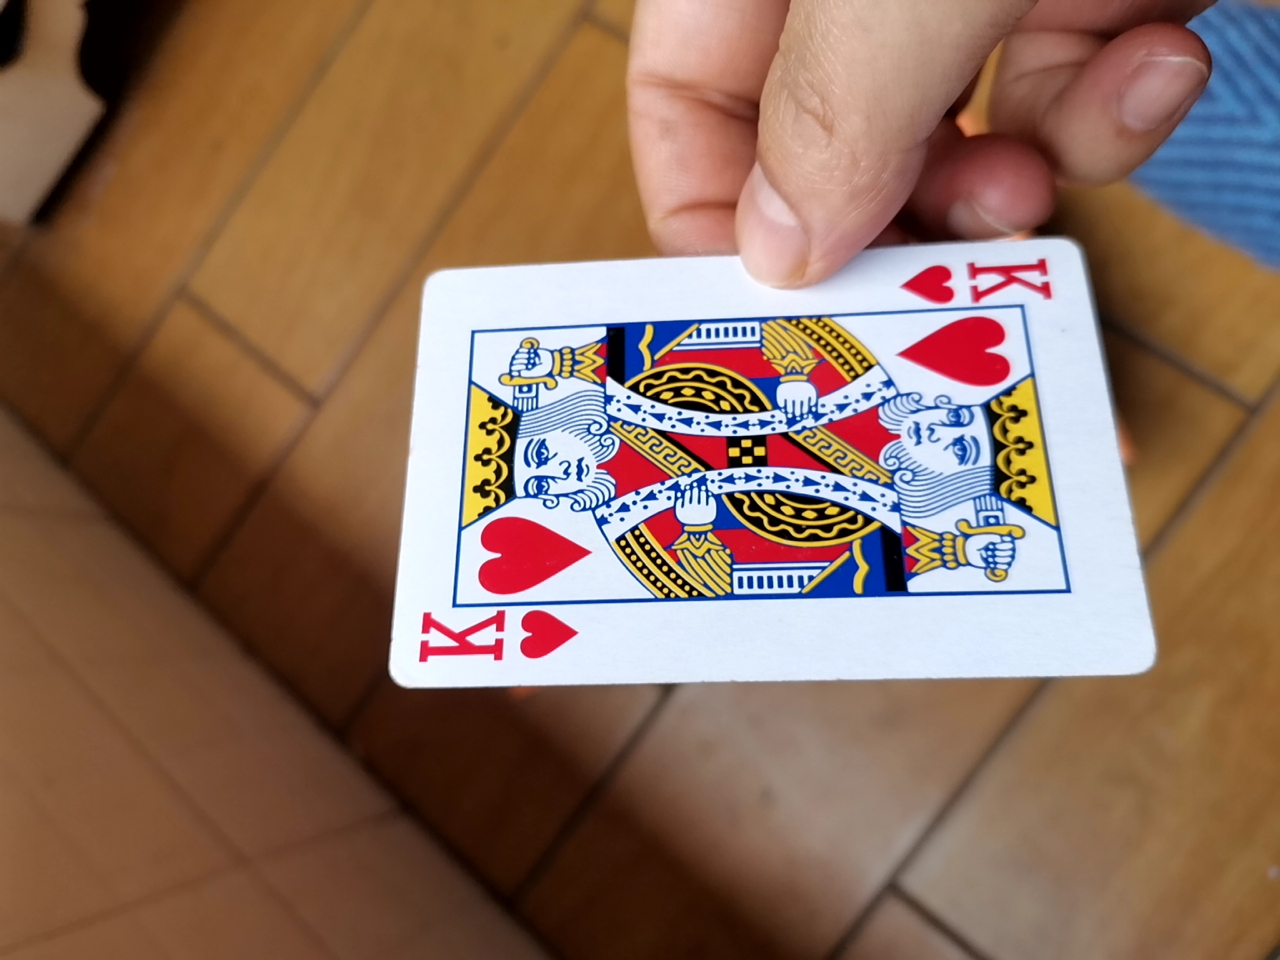hx k: (365, 241, 1149, 700)
